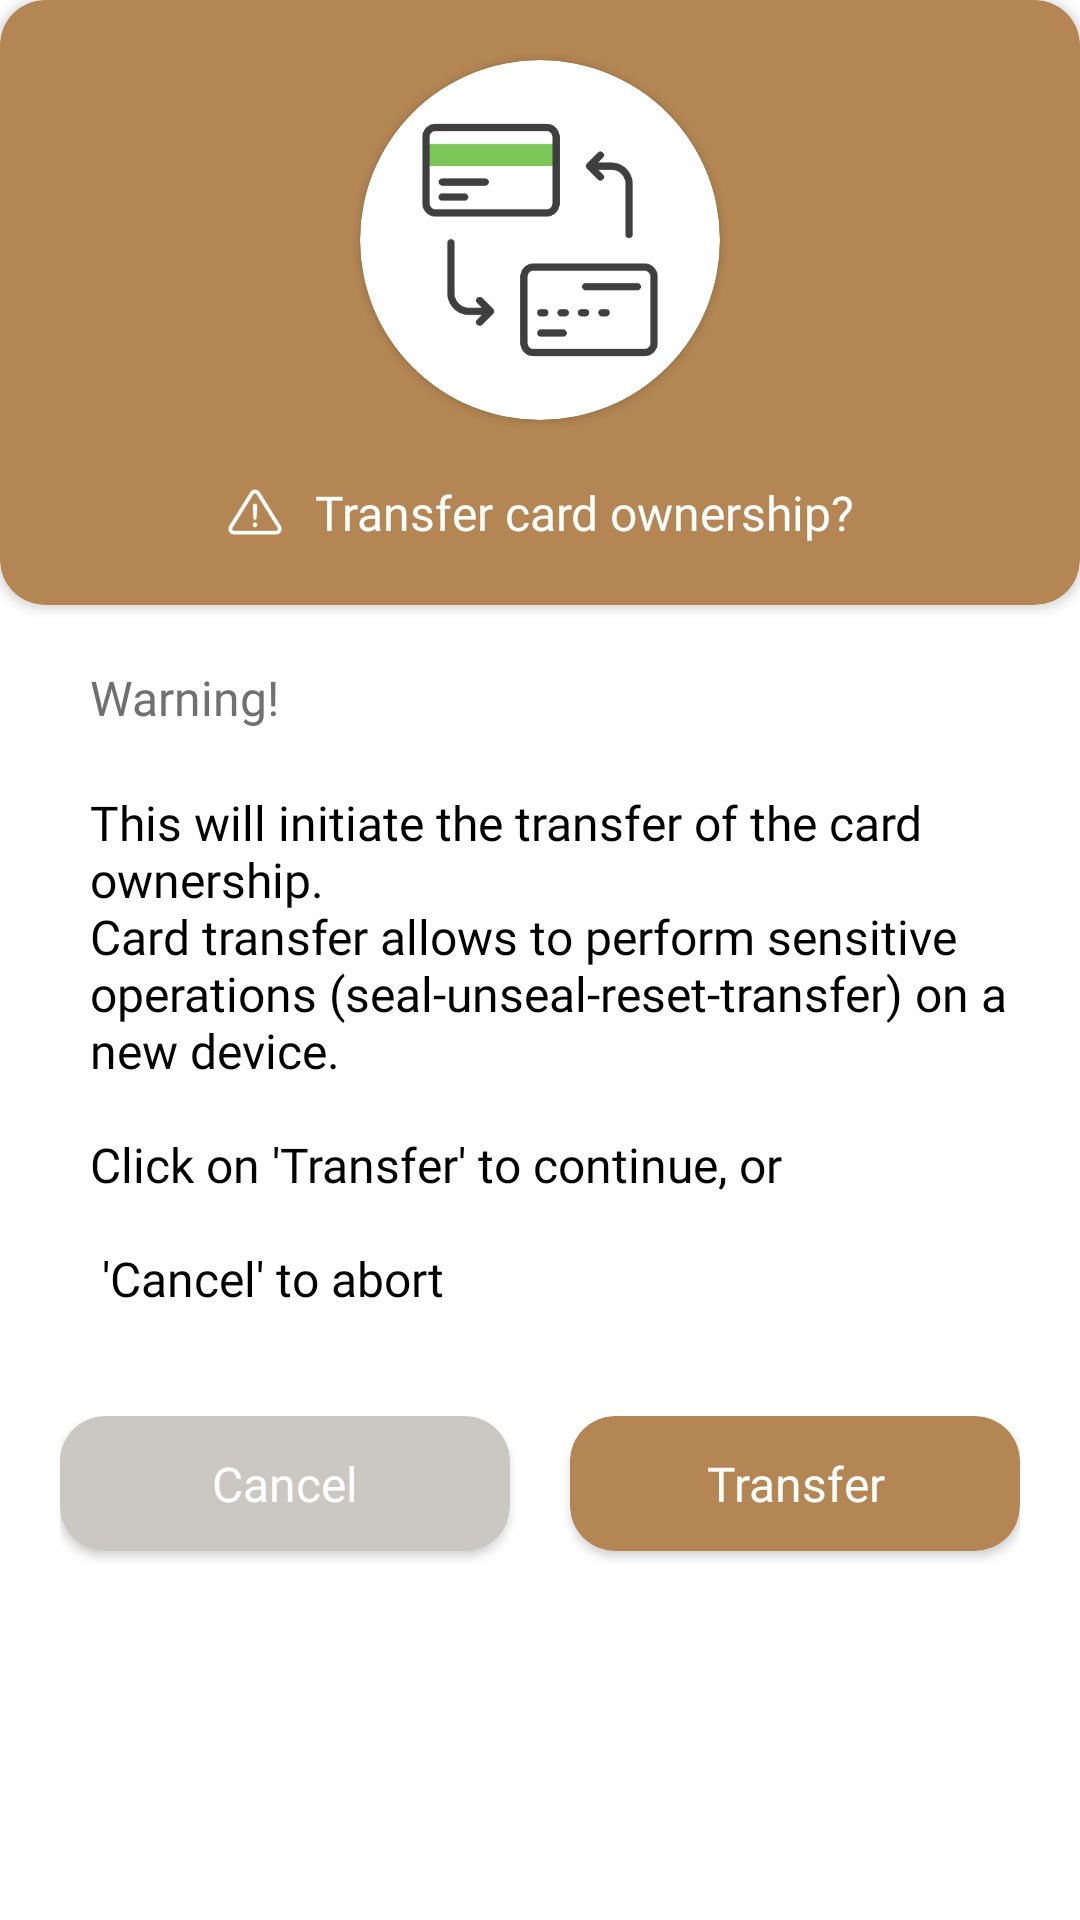

Icon click points for this 1080*1920 phone screenshot, format [x,y]:
money transfer: [540,240]
